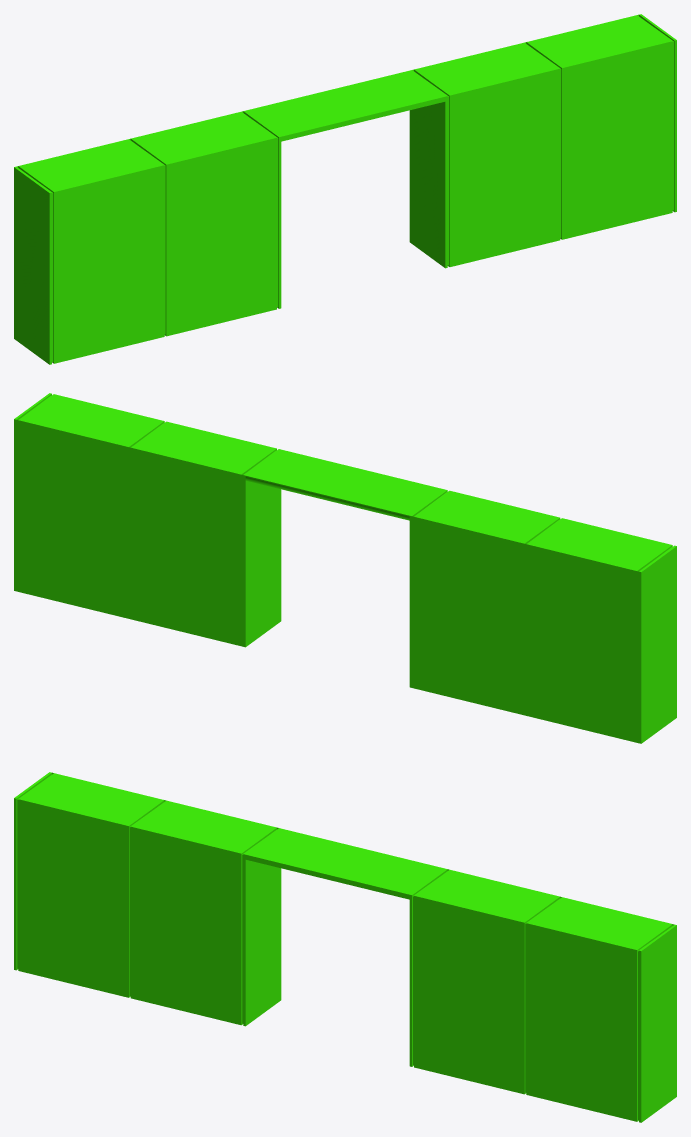
Rendered from Cupboard.FBX.
3 views of the same model, one above another, from view 1: azimuth 30°, elevation 25°; view 2: azimuth 150°, elevation 25°; view 3: azimuth 330°, elevation 25° (orthographic).
Parts seen in each view (by area): view 1: Box027; view 2: Box027; view 3: Box027.
Boxes of the visible parts, box(x1,y1,x2,y2) form: Box027: box(14, 14, 676, 364); Box027: box(14, 393, 676, 743); Box027: box(14, 772, 676, 1122).
Size of the model in its own units: 325 by 85 by 32.
